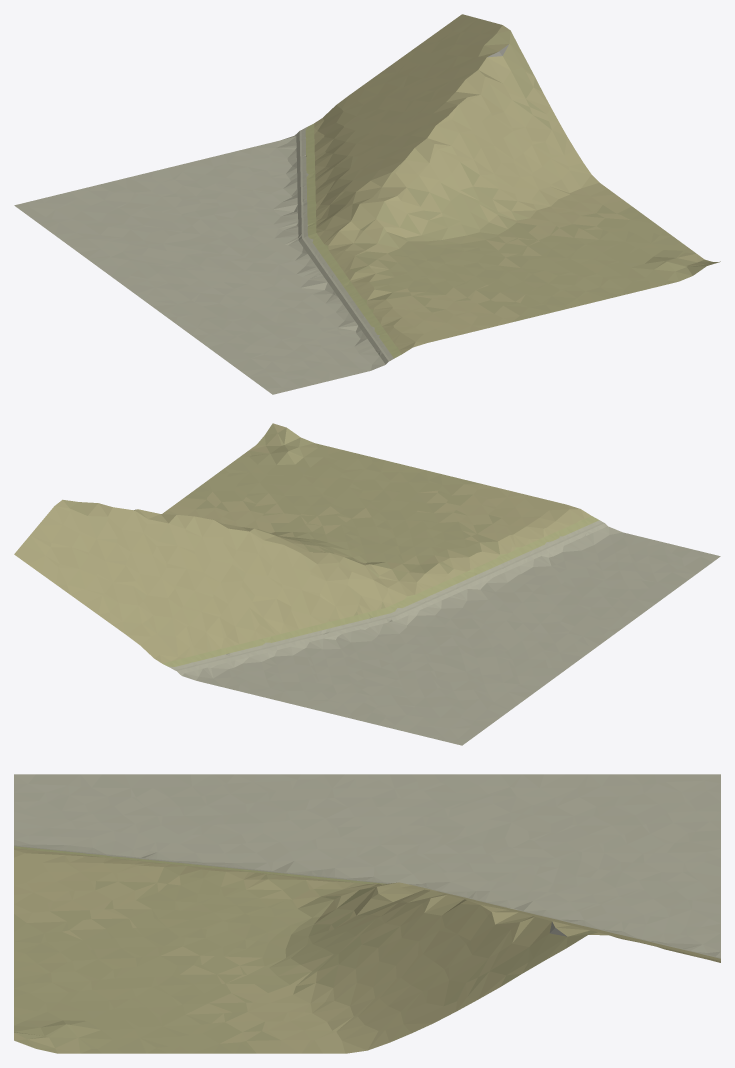
The model's file is Ground_-3_4.glb.
3 renders of one model, top to bottom at view 1: azimuth 30°, elevation 25°; view 2: azimuth 150°, elevation 25°; view 3: azimuth 270°, elevation 25°, orthographic. The views are drawn at different scales.
Visible parts, largest first — view 1: Ground_-3_4; view 2: Ground_-3_4; view 3: Ground_-3_4.
Boxes of the visible parts, left/top/right/bottom form: Ground_-3_4: left=14, top=14, right=720, bottom=394; Ground_-3_4: left=14, top=423, right=720, bottom=745; Ground_-3_4: left=14, top=774, right=720, bottom=1053.
Bounding box in the file's own units: 768 × 166 × 768.
